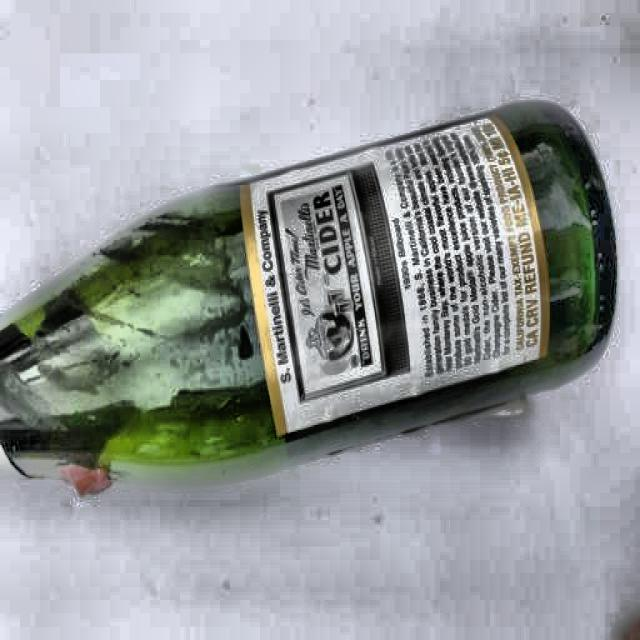glass: (0, 99, 617, 493)
